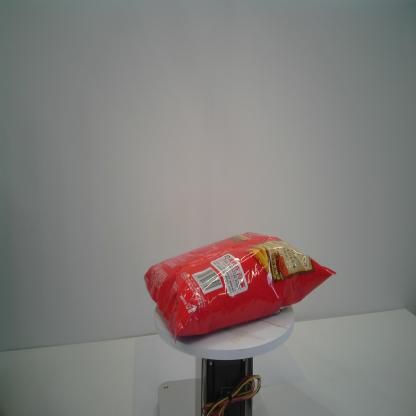Puffed Food: (142, 230, 337, 347)
